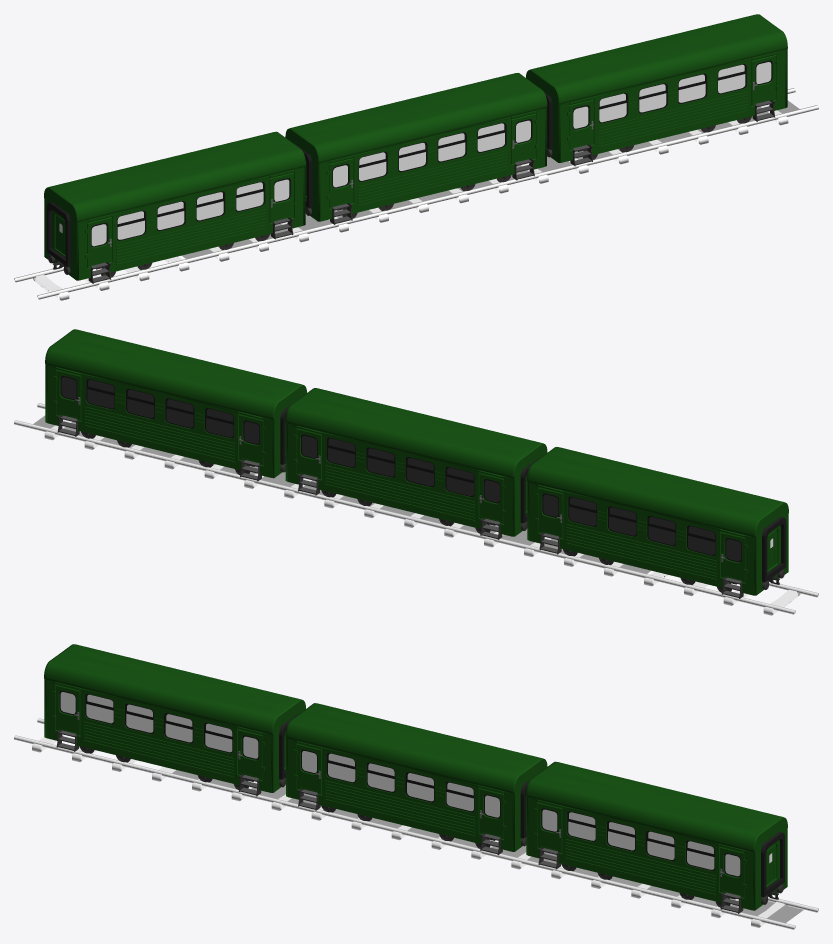
Rendered from TrainModel.glb.
3 views of the same model, one above another, from view 1: azimuth 30°, elevation 25°; view 2: azimuth 150°, elevation 25°; view 3: azimuth 330°, elevation 25° (orthographic).
Parts seen in each view (by area): view 1: Cube.001, Cube, Cube.002, Куб.001, Плоскость.001; view 2: Cube.001, Cube, Cube.002, Куб, Куб.001, Плоскость.001; view 3: Cube.002, Cube.001, Cube, Куб.001, Плоскость.001.
Boxes of the visible parts, left/top/right/bottom form: Cube.001: left=44, top=131, right=305, bottom=283; Cube: left=285, top=73, right=547, bottom=224; Cube.002: left=526, top=14, right=787, bottom=166; Куб.001: left=32, top=104, right=818, bottom=300; Плоскость.001: left=182, top=100, right=799, bottom=258; Cube.001: left=527, top=447, right=788, bottom=598; Cube: left=285, top=388, right=547, bottom=539; Cube.002: left=45, top=329, right=306, bottom=481; Куб: left=14, top=420, right=795, bottom=614; Куб.001: left=37, top=403, right=818, bottom=615; Плоскость.001: left=33, top=415, right=650, bottom=573; Cube.002: left=526, top=761, right=787, bottom=913; Cube.001: left=44, top=644, right=305, bottom=796; Cube: left=285, top=703, right=547, bottom=855; Куб.001: left=14, top=734, right=795, bottom=929; Плоскость.001: left=172, top=770, right=803, bottom=922.
Size of the model in its own units: 22.27 by 2.51 by 1.81.
5 materials, 1 textured.
